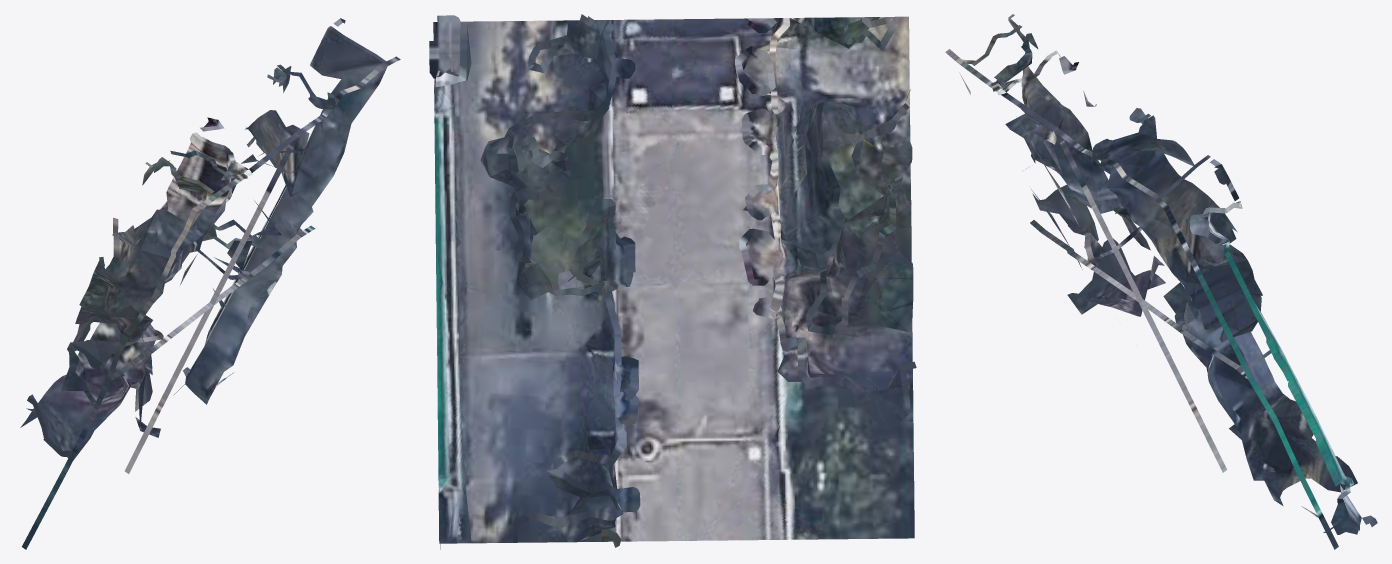
The picture shows the model from 3 angles, left to right: view 1: azimuth 30°, elevation 25°; view 2: azimuth 150°, elevation 25°; view 3: azimuth 270°, elevation 25°; orthographic projection. The views are drawn at different scales.
Bounding box in the file's own units: 38.59 × 37.45 × 35.1.
2 materials, 2 textured.
